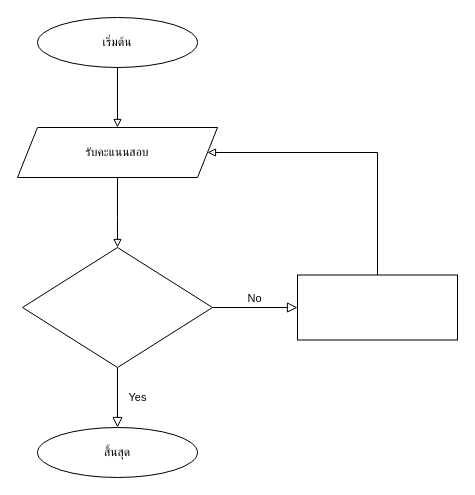
The diagram is 475 pixels wide and 495 high, and some of its shapes have lost their labels. The shapes that lost their labels are listed below. From the top down, each one's box as (x1, y1, x2, y2) in pixels, then its label:
(22, 246, 212, 368): ตรวจสอบคะแนน >= 50 หรือไม่?
(296, 274, 458, 340): เรียนปรับพื้นฐานใหม่
